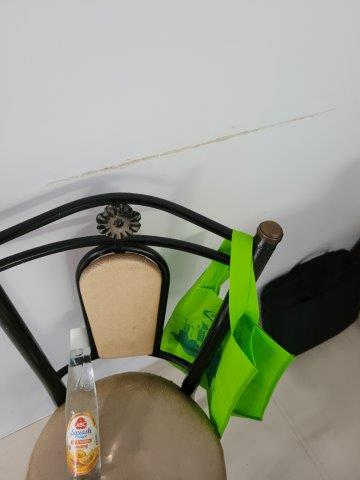botolkaca: (64, 327, 103, 480)
